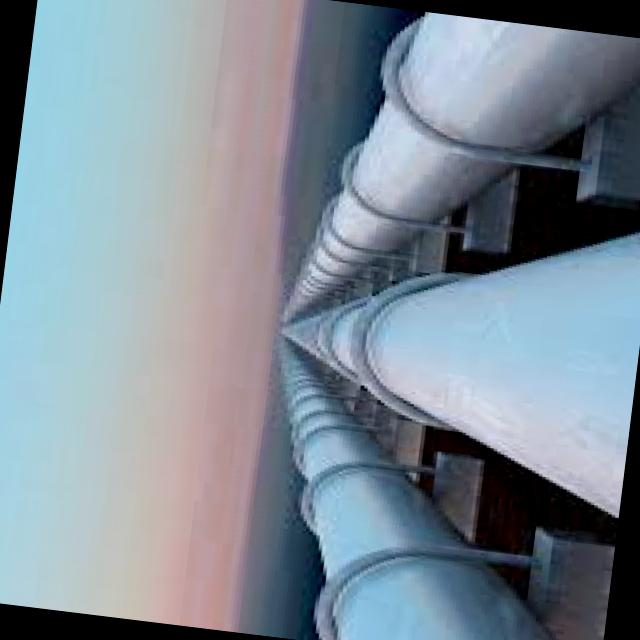gas: (285, 11, 640, 319), (283, 233, 640, 517), (282, 339, 556, 640), (282, 339, 464, 578)
